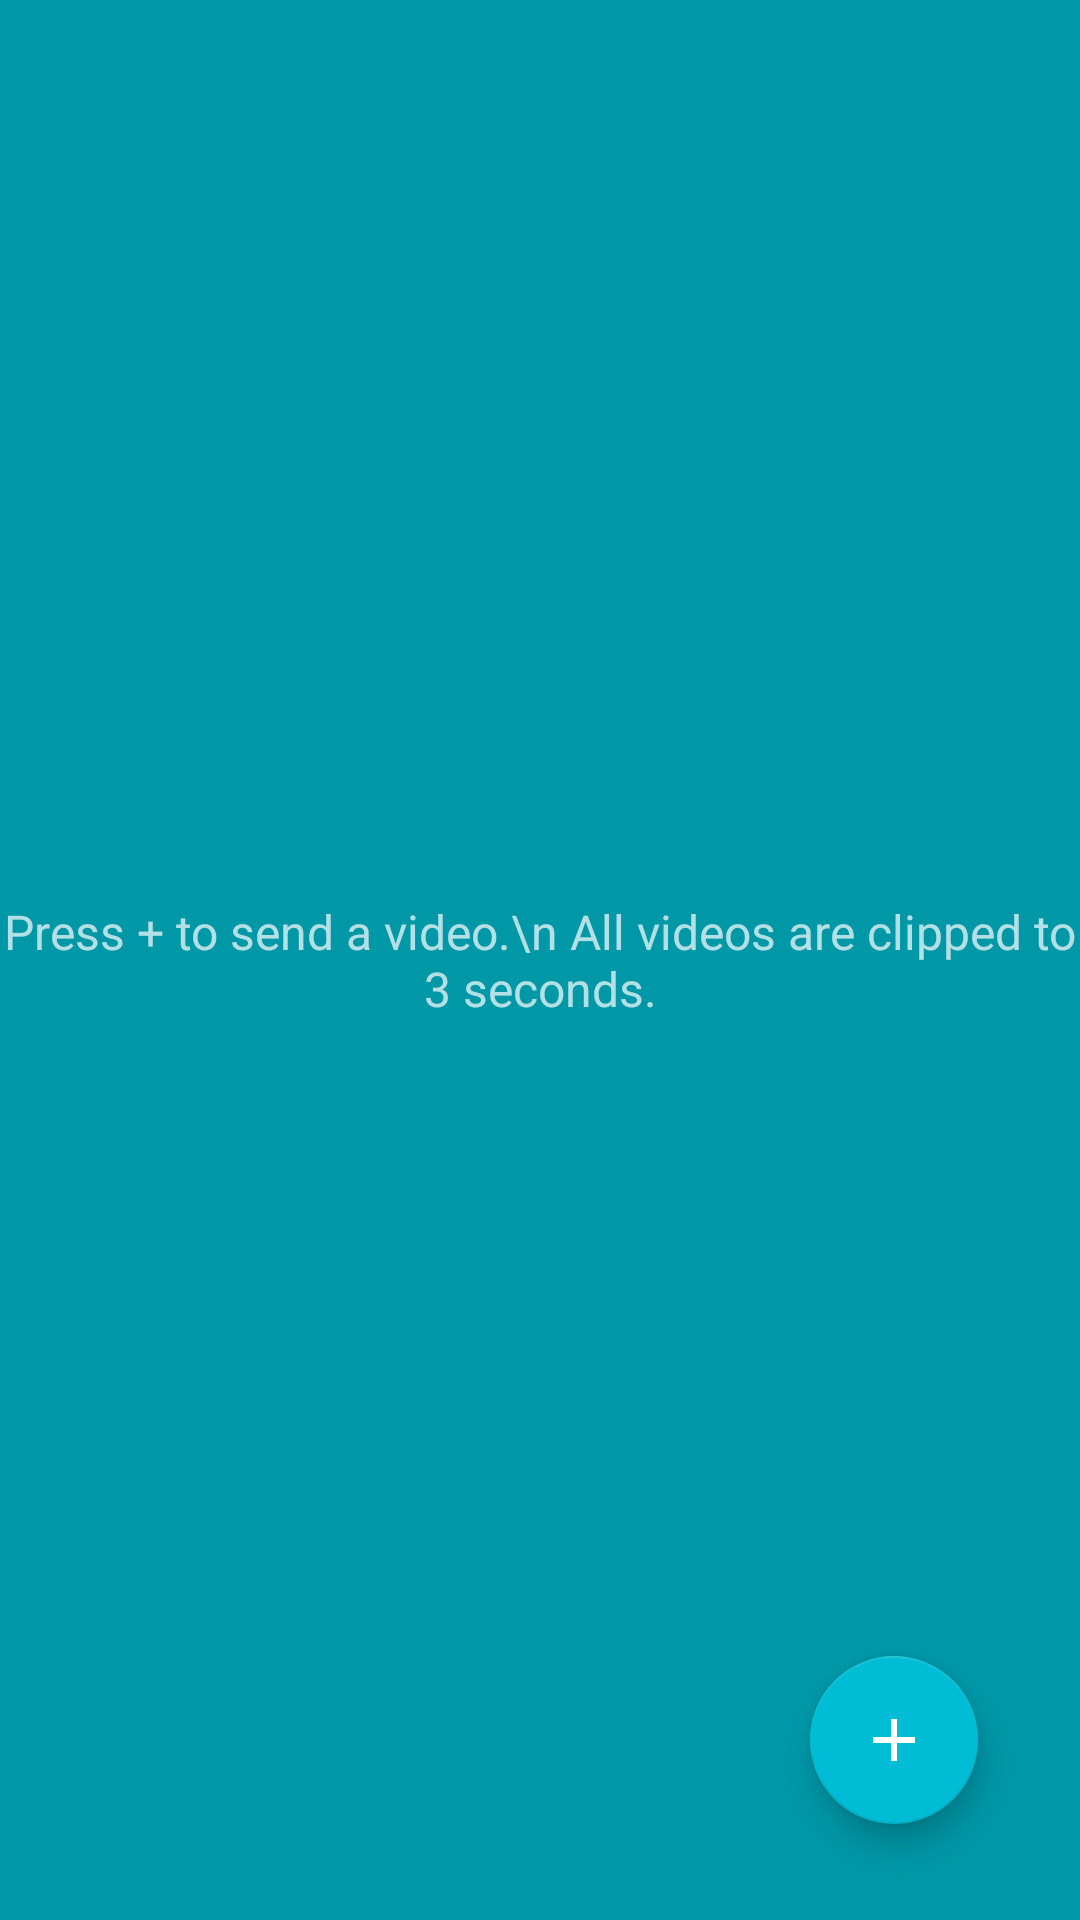

Named icons in this screenshot (1080*1920) and their bounding boxes, (left=x1, top=y1, right=x2, bottom=y2):
plus: (left=810, top=1656, right=978, bottom=1824)
